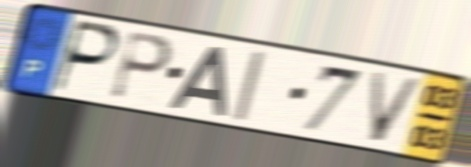7: (301, 62, 366, 134)
A: (165, 44, 228, 119)
I: (230, 48, 268, 124)
P: (50, 18, 123, 96), (107, 28, 176, 103)
V: (368, 68, 426, 146)
